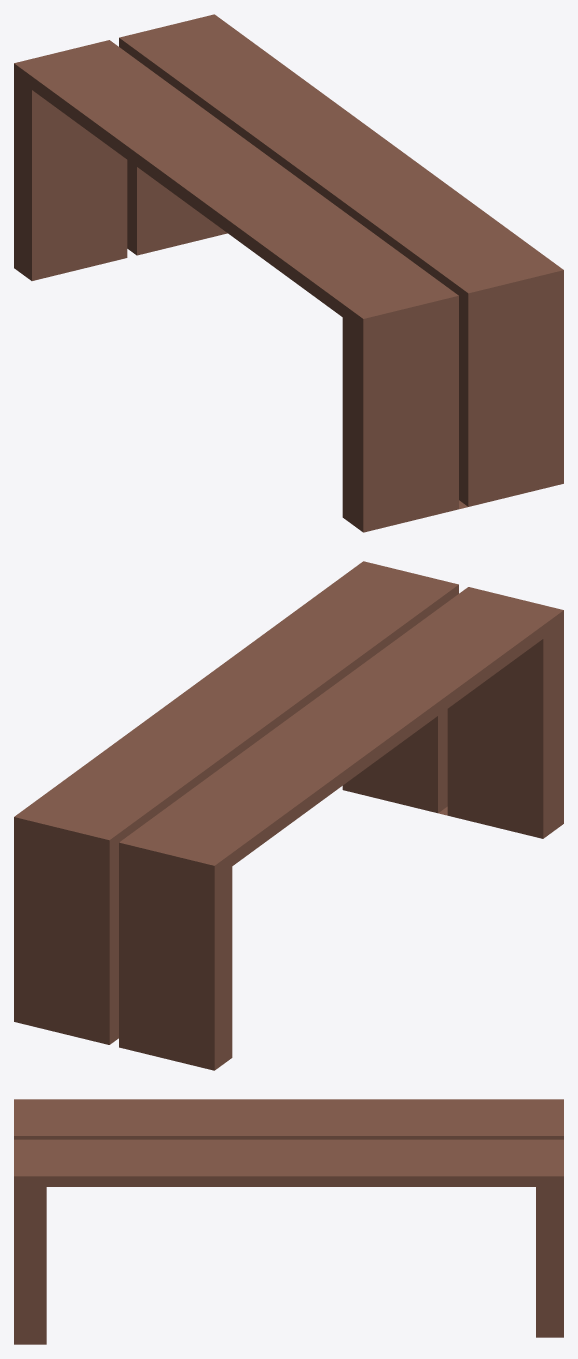
Rendered from Bank.fbx.
3 views of the same model, one above another, from view 1: azimuth 30°, elevation 25°; view 2: azimuth 150°, elevation 25°; view 3: azimuth 270°, elevation 25° (orthographic). The views are drawn at different scales.
Visible parts, largest first — view 1: Bench.003; view 2: Bench.003; view 3: Bench.003.
Part boxes in pixels (<box>): Bench.003: <box>14,14,563,532</box>; Bench.003: <box>14,561,563,1070</box>; Bench.003: <box>14,1099,563,1344</box>.
Bounding box in the file's own units: 110 × 112 × 333.
